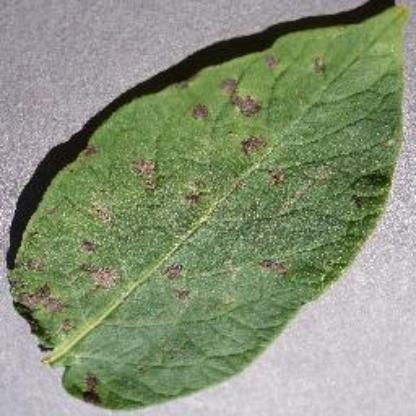Early-Blight: (9, 9, 405, 409)
